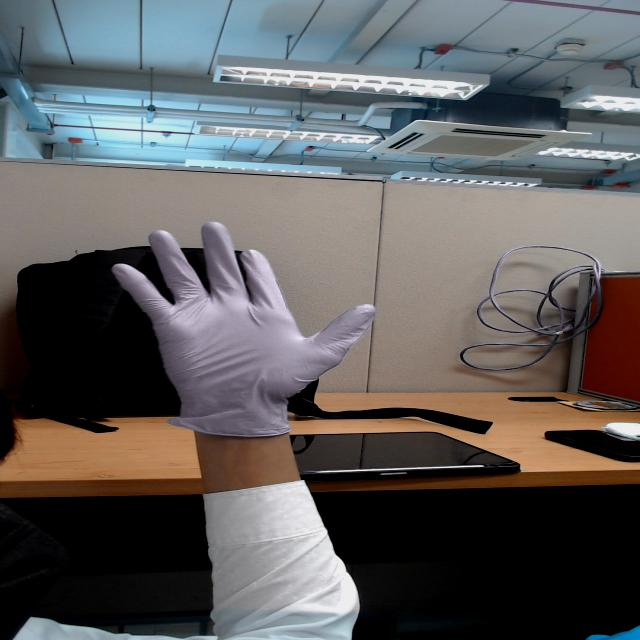glove: (100, 215, 390, 379)
